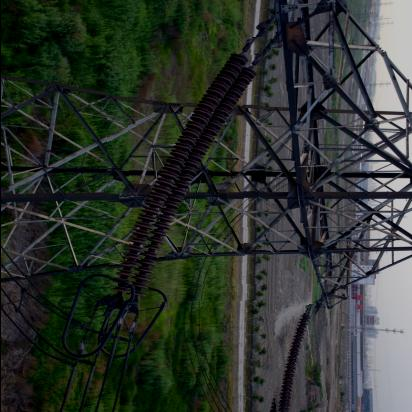insulator: (107, 39, 266, 303), (266, 306, 325, 412)
